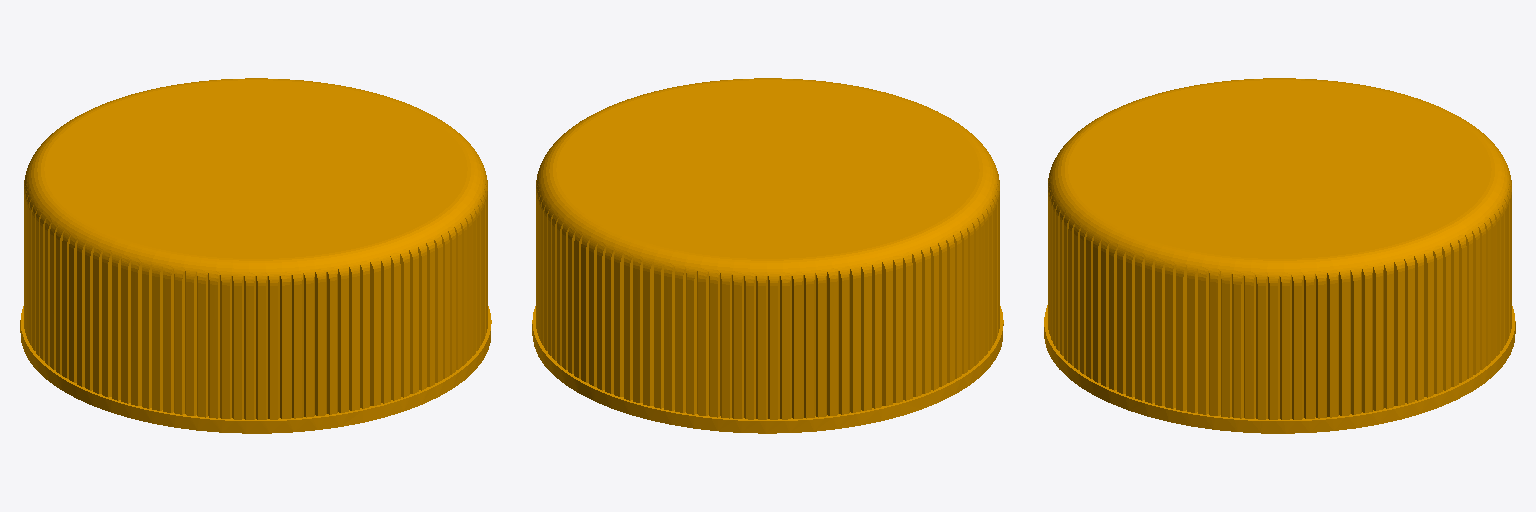
URDF robot description (cap.urdf):
<?xml version="1.0" ?>
<robot name="cap.urdf">

  <link name="cap">
    <visual>
      <origin rpy="0 0 0" xyz="0 0 0"/>
      <geometry>
        <mesh filename="package://cylinder/cap_conicaltube050.obj" scale="0.001 0.001 0.001"/>

      </geometry>
    </visual>
    <collision>
      <origin rpy="0 0 0" xyz="0 0 0"/>
      <geometry>
        <mesh filename="package://cylinder/cap_conicaltube050.stl" scale="0.0007 0.0007 0.0007"/>
      </geometry>
    </collision>
    <inertial>
      <origin rpy="0 0 0" xyz="0 0 0"/>
      <mass value="0.05"/>
      <inertia ixx="10" ixy="0" ixz="0" iyy="10" iyz="0" izz="10"/>
    </inertial>
  </link>

  <link name="cap_tip" />
  
  <joint name="cap_tip_joint" type="fixed">
    <parent link="cap"/>
    <child link="cap_tip"/>
    <origin rpy="0 0 0" xyz="0 0 0"/>
  </joint>

</robot>

--- Facts derived from the render (not from the file) ---
Views: 3 orthographic renders of the robot side by side, from view 1: azimuth 30°, elevation 25°; view 2: azimuth 150°, elevation 25°; view 3: azimuth 270°, elevation 25°.
Model cap.urdf with 2 links and 1 joints (1 fixed), rooted at cap, posed all joints at 0.
Visible links, largest first — view 1: cap; view 2: cap; view 3: cap.
Boxes of the visible links, x1,y1,x2,y2 form: cap: (20, 78, 491, 433); cap: (532, 78, 1003, 433); cap: (1044, 78, 1515, 433).
Size in the robot's own frame: 0.0345 by 0.0345 by 0.0133 metres.
Meshes: 1 distinct files referenced, 1 mesh visuals loaded (1 OBJ).
